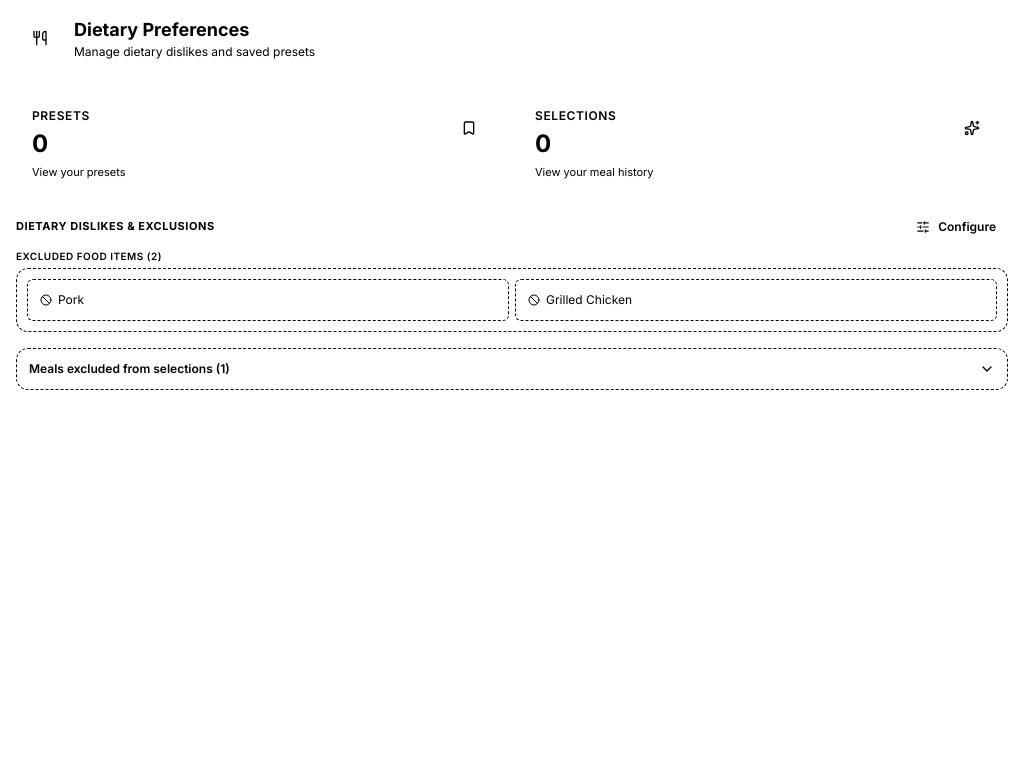
Test: AccountPreferencesCard Component › opens configuration modal when Configure button is clicked
Click the button "Configure" at (956, 226), box [904,212,1008,240]
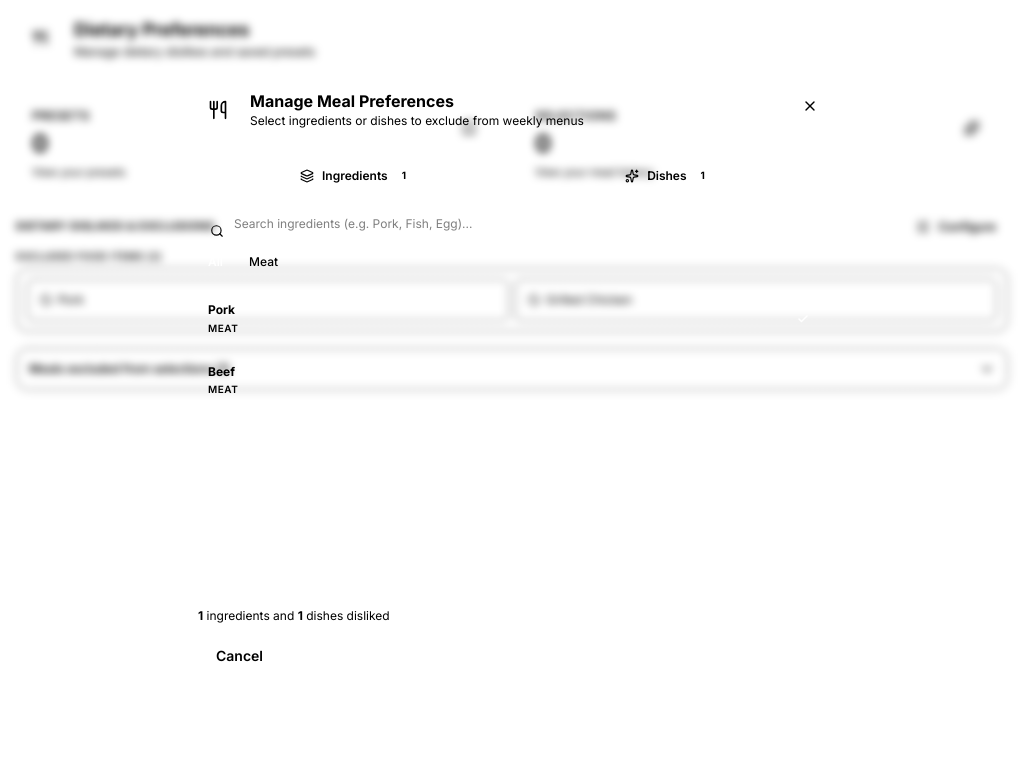
Now the heading "Manage Meal Preferences" is shown, box [250,91,454,111]
